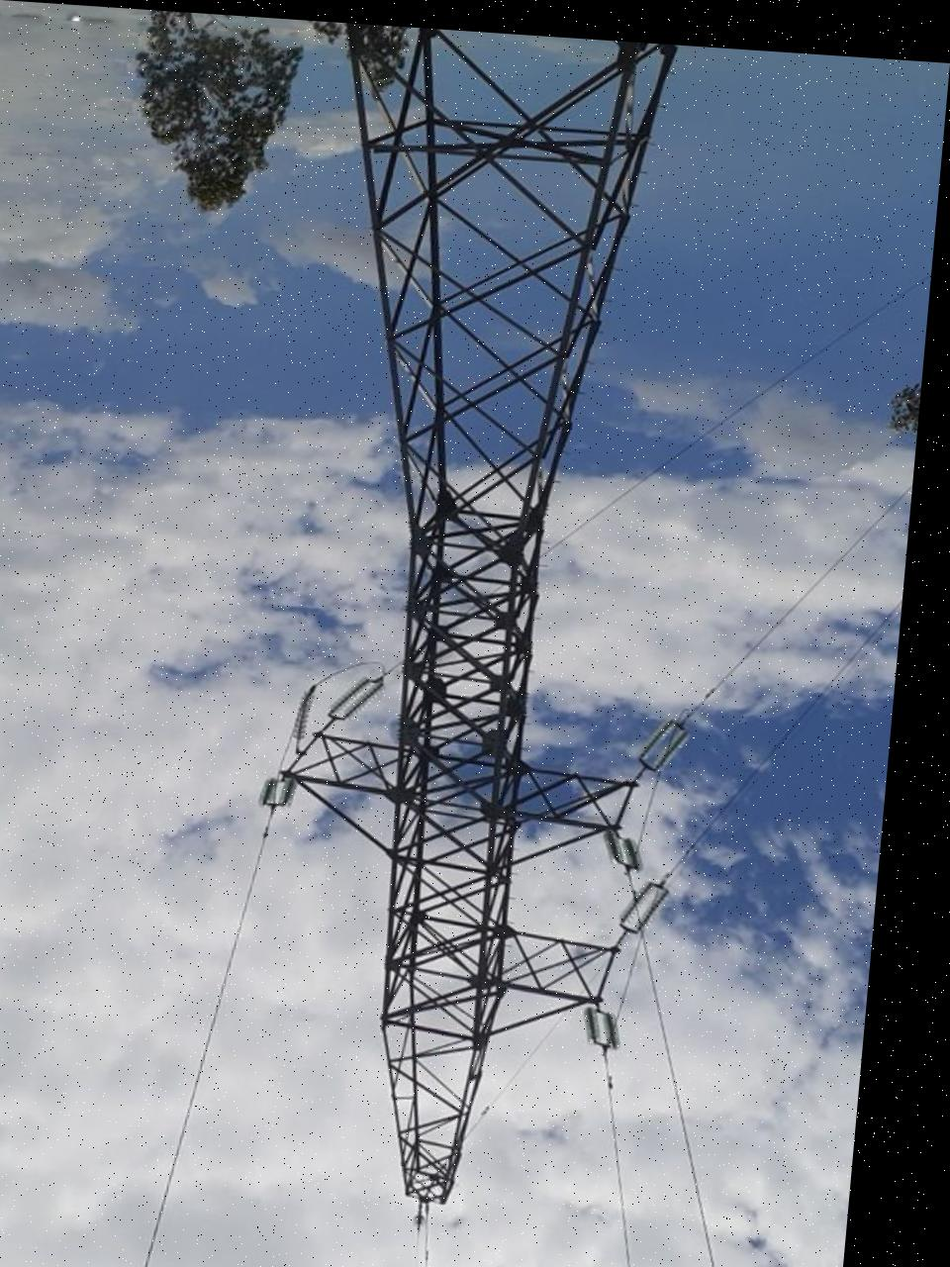tower: (237, 20, 707, 1226)
